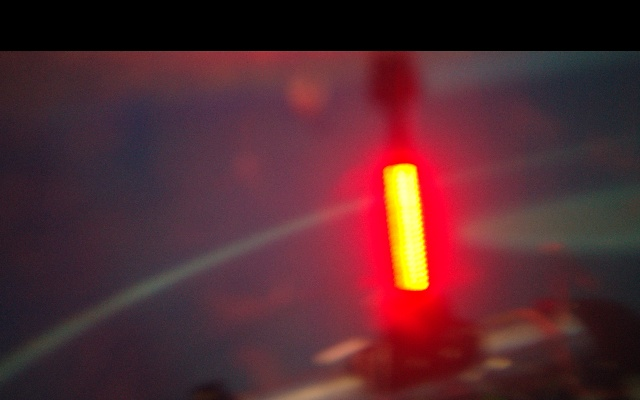red: (381, 163, 429, 293)
